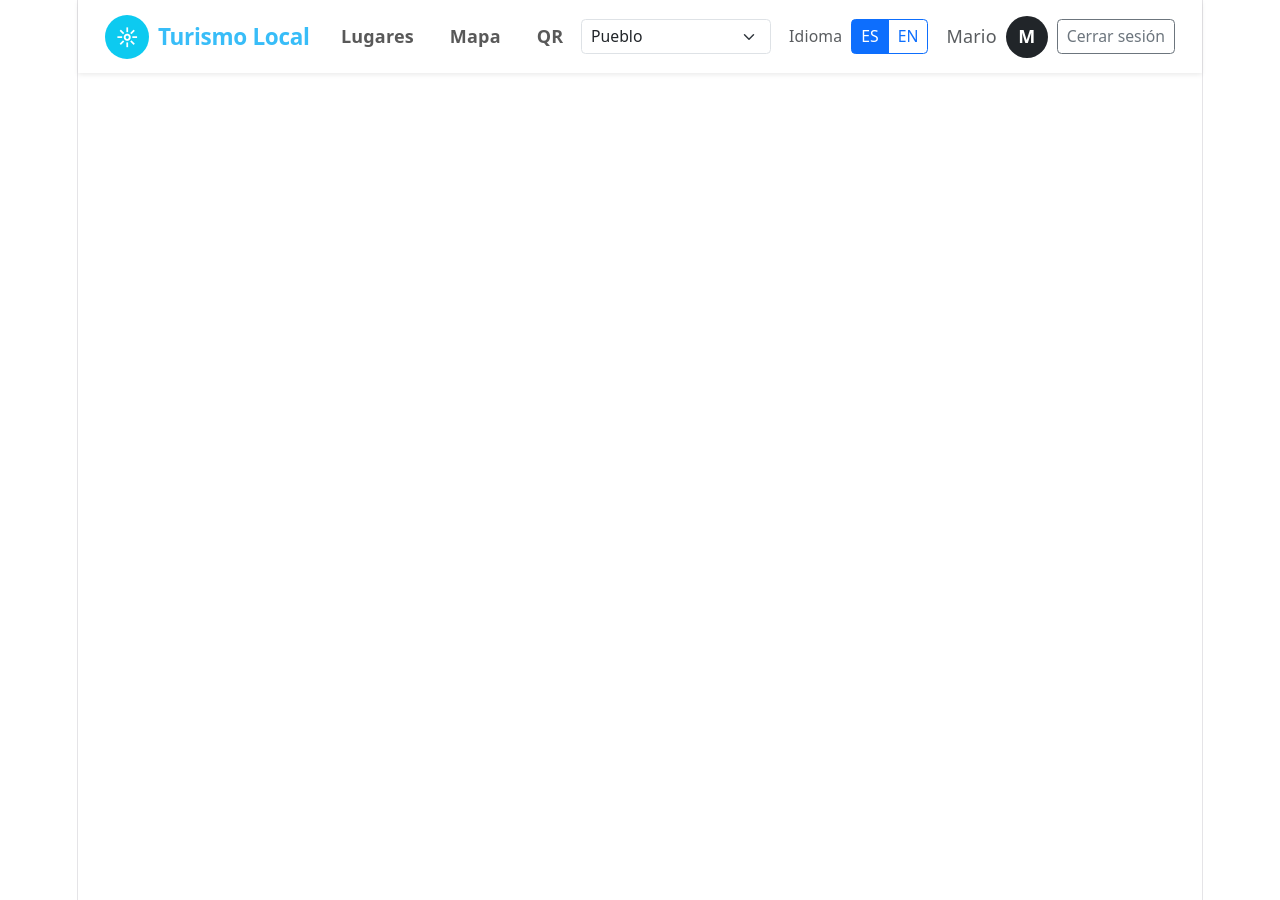
Test case: Navbar › muestra usuario y permite cerrar sesión
Expected: the text "Mario" is shown, x1=946 y1=23 x2=997 y2=50
Click the button "Cerrar sesión": (1116,37) x1=1057 y1=19 x2=1175 y2=54
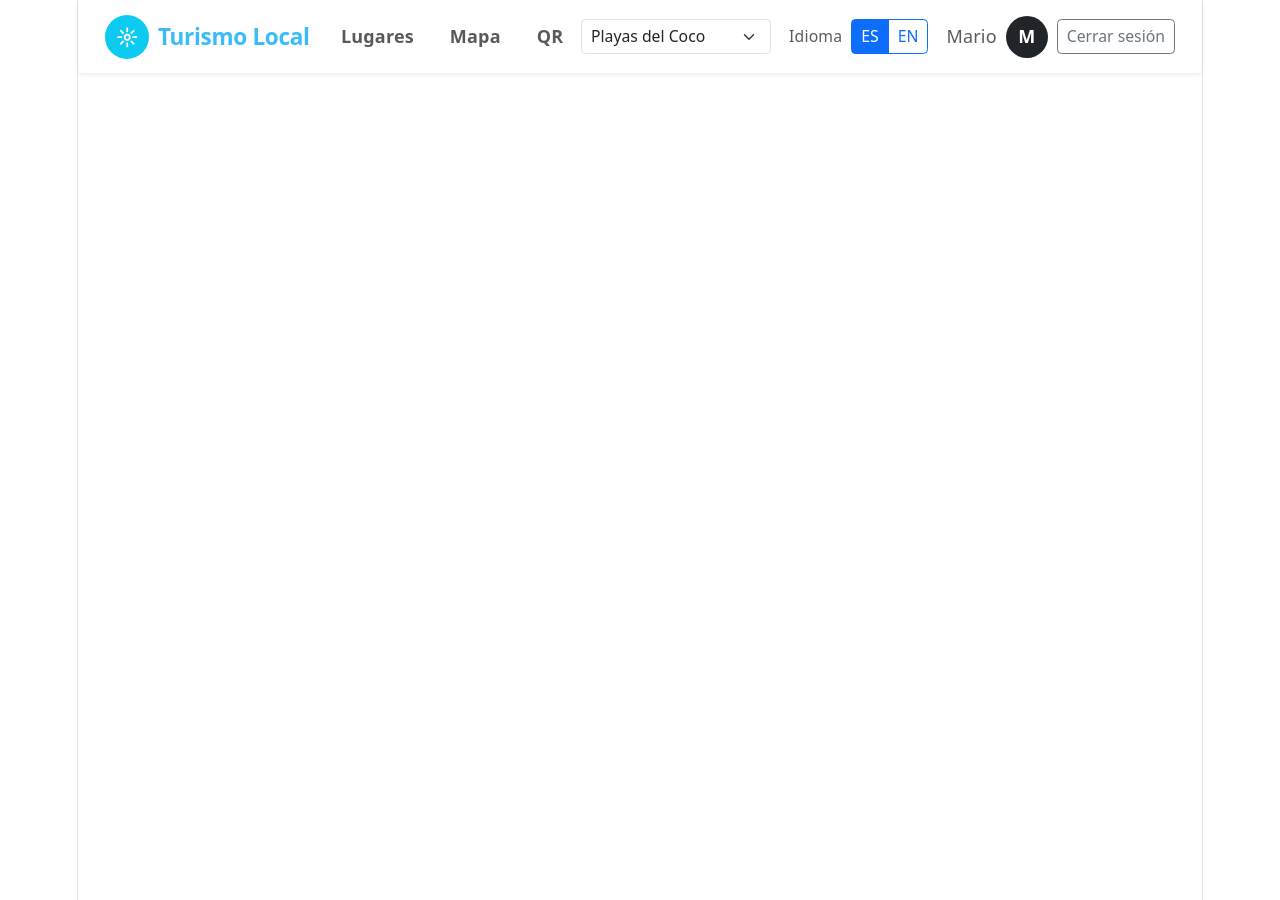
Now the dropdown named "pueblo" shows "Playas del Coco", box x1=581 y1=19 x2=771 y2=54
